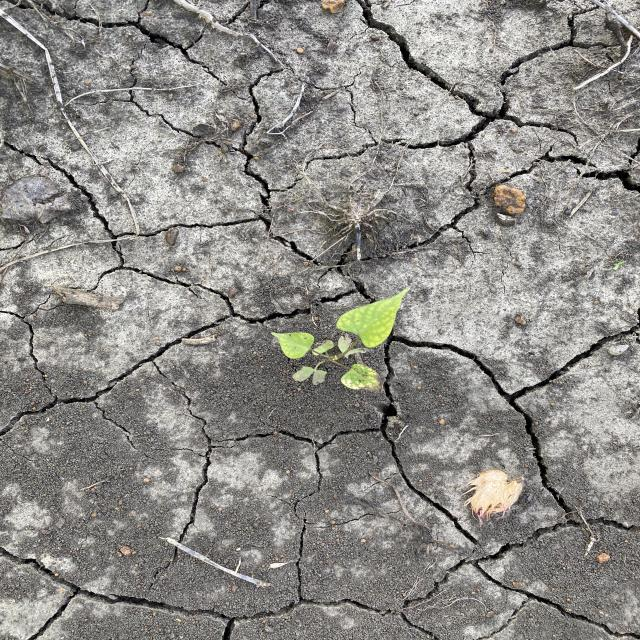MorningGlory: (269, 285, 413, 394)
